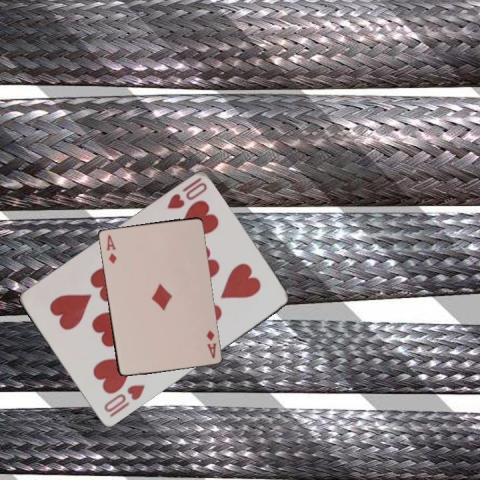10h: (101, 382, 146, 420), (163, 175, 209, 211)
Ad: (103, 231, 117, 265), (204, 327, 218, 359)
